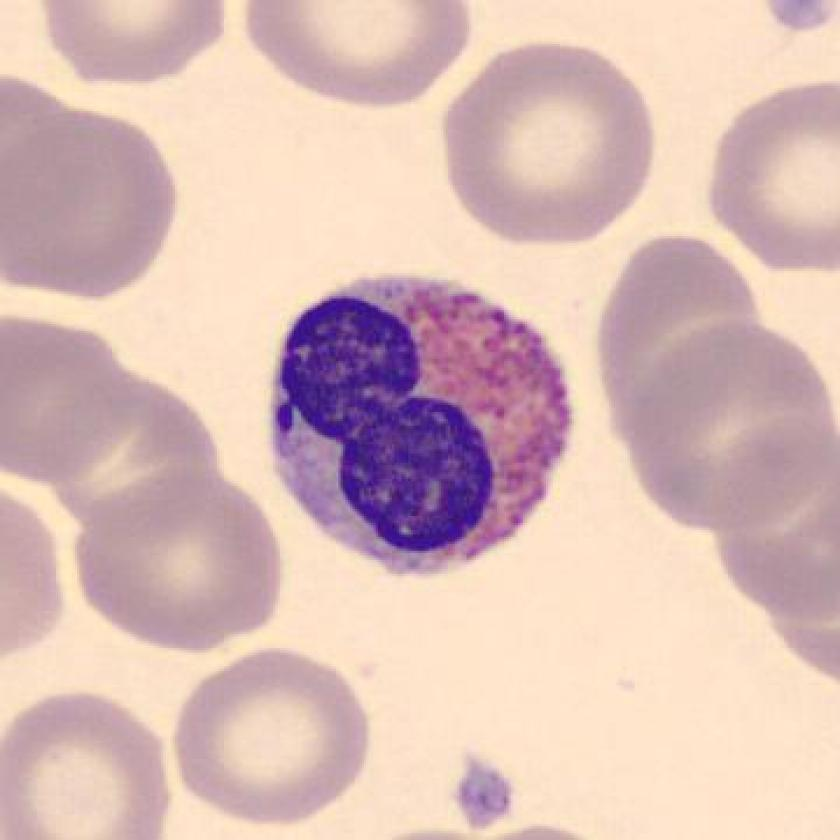eosinophil: (258, 265, 580, 589)
